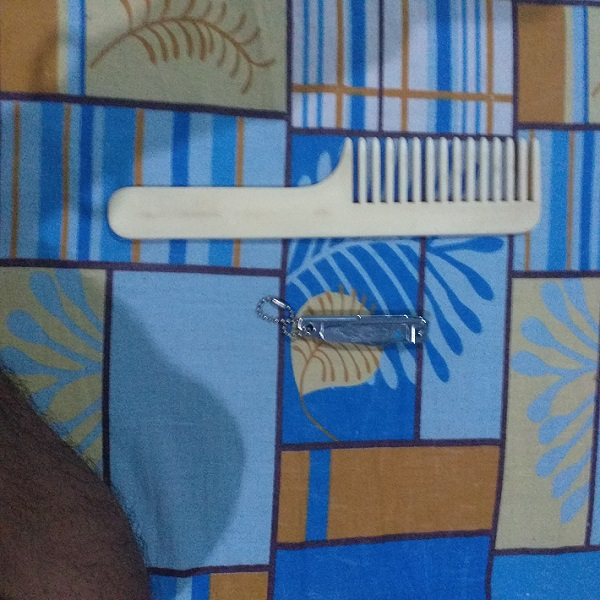comb: (86, 101, 555, 250)
nailcutter: (234, 293, 444, 359)
